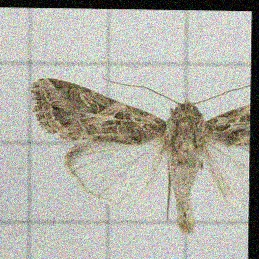Spodoptera litura: (28, 77, 250, 235)
